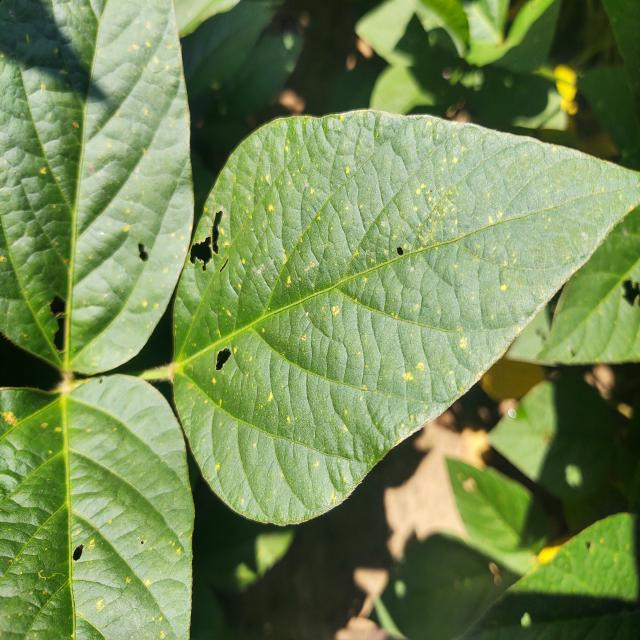Soybean: (157, 109, 640, 530)
downey_mildew: (427, 195, 577, 330), (0, 142, 80, 335), (79, 3, 176, 158), (70, 513, 186, 640), (66, 445, 185, 564), (432, 138, 556, 250), (208, 365, 344, 462), (63, 3, 100, 356), (506, 151, 630, 236), (216, 17, 306, 128), (63, 213, 142, 336), (71, 124, 148, 238), (543, 272, 640, 362), (369, 226, 447, 336), (175, 241, 240, 373), (184, 394, 247, 517), (352, 392, 450, 467), (232, 418, 303, 521), (271, 415, 344, 514), (0, 491, 69, 590), (18, 83, 85, 181), (493, 585, 635, 626), (284, 300, 352, 381), (44, 0, 102, 88), (0, 447, 68, 518), (245, 273, 337, 325), (56, 388, 76, 626), (1, 572, 73, 637), (0, 385, 69, 449), (62, 153, 81, 355), (577, 530, 635, 590), (171, 277, 201, 366)
